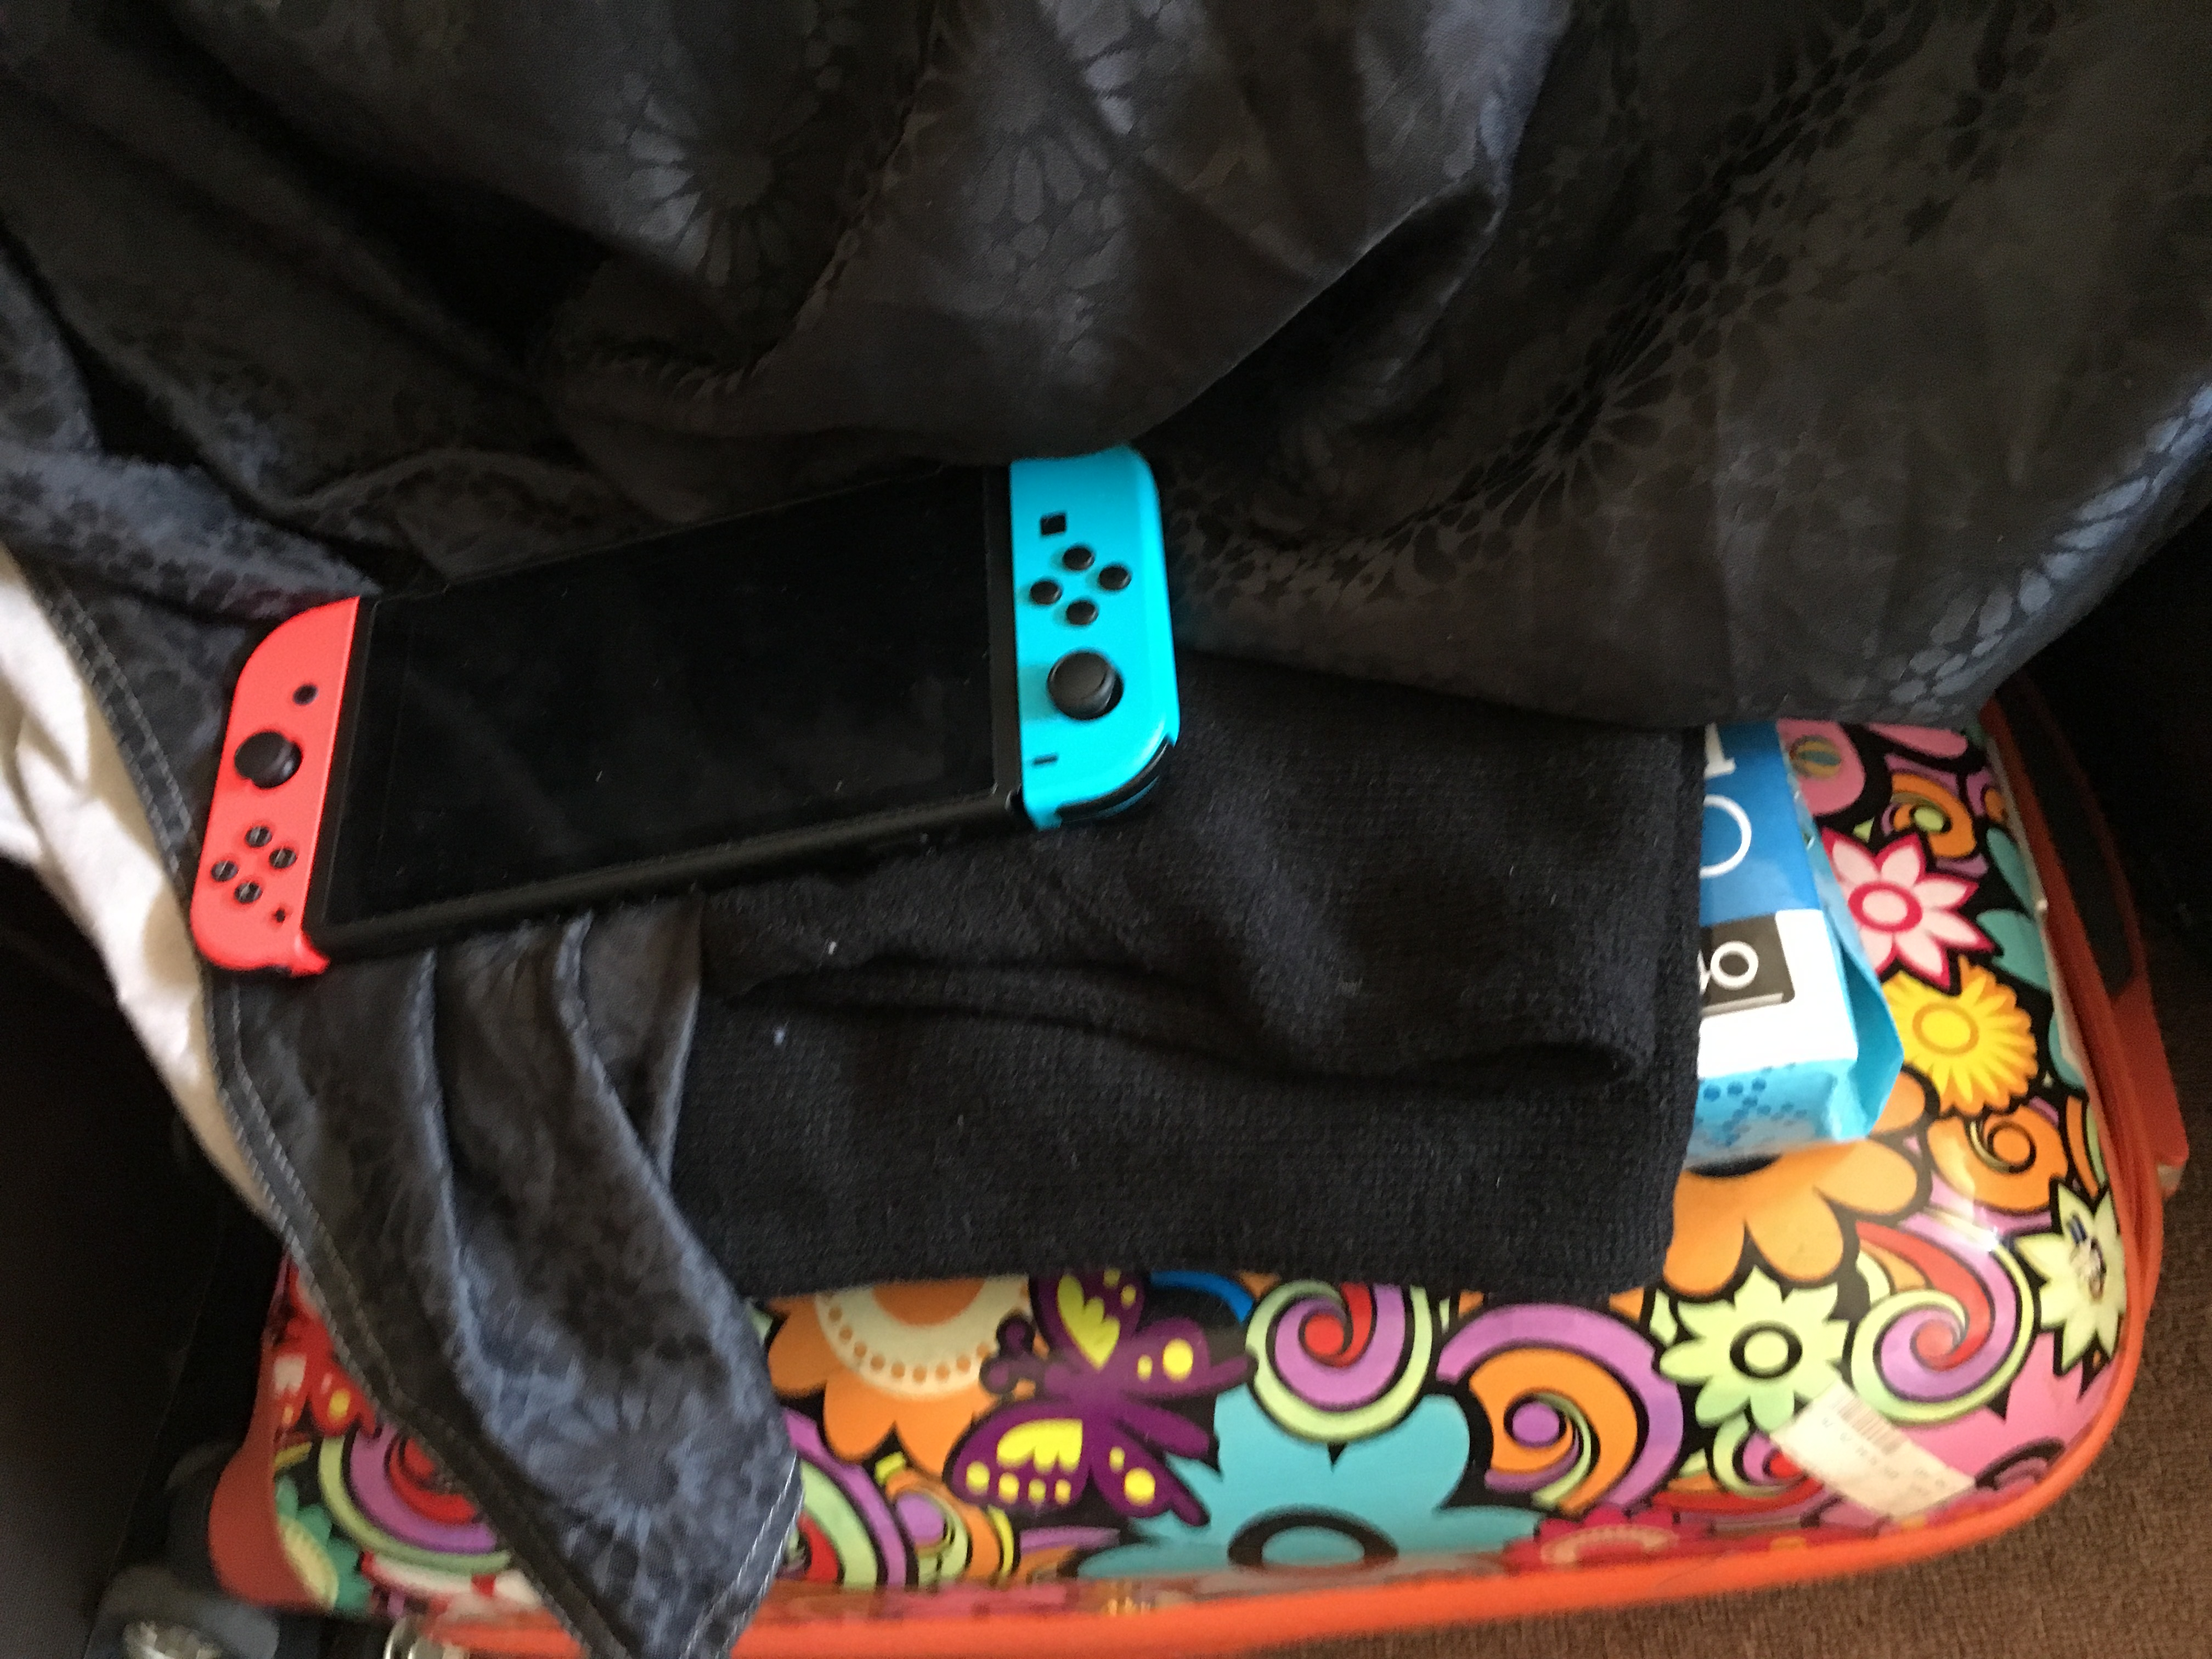NintendoSwitch: (190, 441, 1193, 985)
